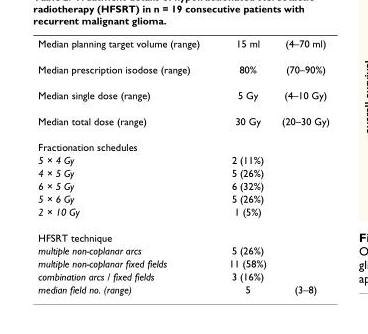table: (37, 37, 328, 294)
table column: (37, 37, 213, 294), (213, 37, 273, 294), (273, 37, 328, 294)
table projected row header: (37, 133, 328, 152), (37, 224, 328, 243)
table row: (37, 55, 328, 81), (37, 81, 328, 107), (37, 107, 328, 133), (37, 204, 328, 224), (37, 133, 328, 152), (37, 224, 328, 243), (37, 37, 328, 55), (37, 152, 328, 165), (37, 165, 328, 178), (37, 178, 328, 191), (37, 191, 328, 204), (37, 243, 328, 256), (37, 256, 328, 269), (37, 269, 328, 282), (37, 282, 328, 294)
